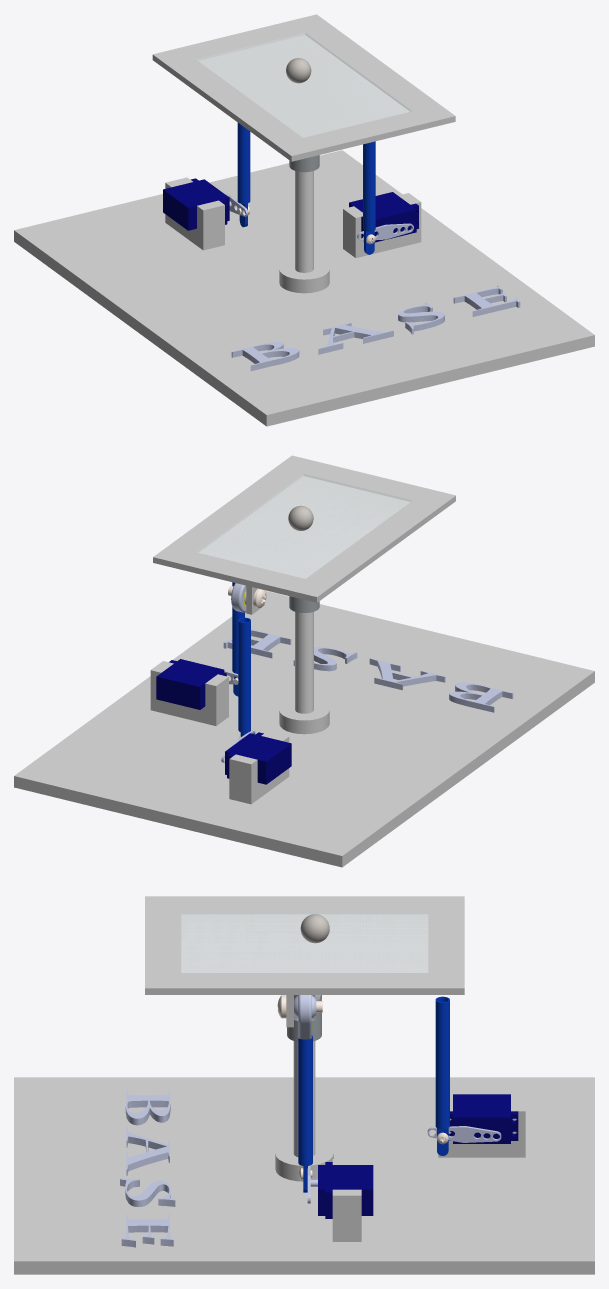
Rendered from BallOnPlateModel.fbx.
3 views of the same model, one above another, from view 1: azimuth 30°, elevation 25°; view 2: azimuth 150°, elevation 25°; view 3: azimuth 270°, elevation 25° (orthographic). The views are drawn at different scales.
Parts seen in each view (by area): view 1: Part12, Partface, Part111, screen, servo (×2), servo rodd (×2), joint rod; view 2: Part12, Partface, screen, Part111, servo (×2), servo rodd (×2), joint rod; view 3: Part12, Partface, screen, Part111, servo (×2), servo rodd (×2), joint rod, servo2, ball, Heim joint hold, hylsa.
Part boxes in pixels (x1,y1,x2,y2): Part12: [14, 150, 594, 426]; Partface: [152, 14, 455, 158]; Part111: [152, 35, 455, 161]; screen: [196, 32, 412, 137]; servo (×2): [163, 178, 418, 242]; servo rodd (×2): [237, 123, 375, 254]; joint rod: [295, 171, 313, 272]; Part12: [14, 591, 594, 867]; Partface: [153, 455, 455, 599]; screen: [196, 473, 412, 578]; Part111: [153, 476, 455, 614]; servo (×2): [156, 659, 291, 784]; servo rodd (×2): [232, 582, 250, 736]; joint rod: [295, 612, 313, 713]; Part12: [14, 1077, 594, 1274]; Partface: [145, 896, 464, 990]; screen: [181, 911, 428, 972]; Part111: [145, 914, 464, 1027]; servo (×2): [318, 1094, 518, 1218]; servo rodd (×2): [298, 996, 449, 1192]; joint rod: [293, 1041, 315, 1156]; servo2: [427, 1126, 501, 1142]; ball: [300, 914, 329, 943]; Heim joint hold: [298, 995, 311, 1039]; hylsa: [287, 995, 321, 1041].
Size of the model in its own units: 30 by 21.04 by 40.
